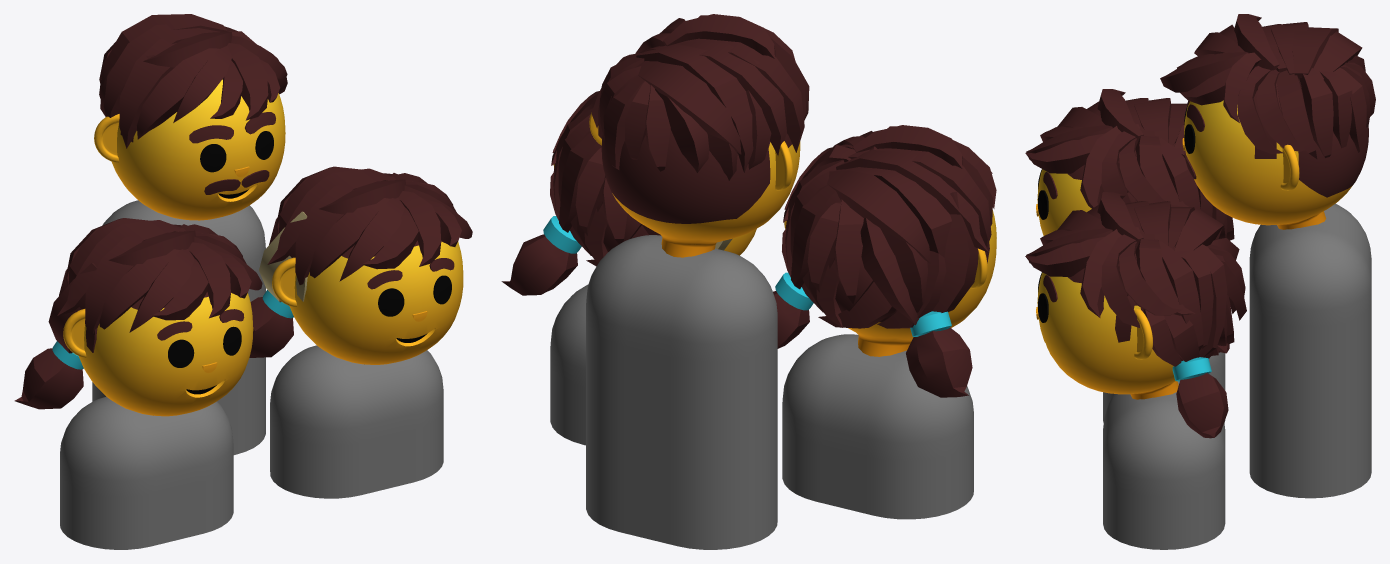
The model's file is family_man_boy_girl_girl.gltf.
3 views of the same model, side by side, from view 1: azimuth 30°, elevation 25°; view 2: azimuth 150°, elevation 25°; view 3: azimuth 270°, elevation 25° (orthographic). The views are drawn at different scales.
Parts seen in each view (by area): view 1: Sphere.339, Sphere.338, Cube.5728, Cube.5641, Cube.5695, Roundcube.408, Roundcube.409, Roundcube.407, Sphere.337, Cube.5748, Cube.5713, Circle.1705 (+10 smaller); view 2: Sphere.337, Cube.5728, Sphere.338, Cube.5641, Roundcube.407, Cube.5695, Sphere.339, Cube.5748, Cube.5713, Roundcube.408, Cube.5749, Cylinder.282 (+1 smaller); view 3: Sphere.337, Cube.5695, Cube.5641, Sphere.339, Cube.5728, Roundcube.407, Roundcube.409, Cube.5713, Roundcube.408, Cylinder.284, Cylinder.282, Cube.5714 (+1 smaller).
Boxes of the visible parts, x1,y1,x2,y2 form: Sphere.339: (270, 345, 443, 498); Sphere.338: (60, 396, 233, 549); Cube.5728: (48, 218, 262, 353); Cube.5641: (99, 14, 287, 148); Cube.5695: (267, 166, 472, 284); Roundcube.408: (79, 292, 253, 416); Roundcube.409: (289, 240, 463, 364); Roundcube.407: (111, 79, 285, 220); Sphere.337: (92, 200, 265, 454); Cube.5748: (14, 348, 83, 409); Cube.5713: (249, 297, 293, 357); Circle.1705: (378, 275, 451, 316); Sphere.337: (586, 235, 777, 549); Cube.5728: (782, 125, 996, 328); Sphere.338: (782, 334, 973, 519); Cube.5641: (591, 14, 809, 180); Roundcube.407: (601, 129, 800, 257); Cube.5695: (550, 91, 660, 266); Sphere.339: (550, 284, 588, 445); Cube.5748: (773, 291, 972, 397); Cube.5713: (501, 234, 577, 295); Roundcube.408: (848, 210, 996, 356); Cube.5749: (775, 272, 951, 336); Cylinder.282: (589, 112, 792, 190); Sphere.337: (1249, 203, 1371, 498); Cube.5695: (1025, 192, 1246, 366); Cube.5641: (1160, 14, 1375, 158); Sphere.339: (1103, 381, 1225, 549); Cube.5728: (1025, 89, 1234, 240); Roundcube.407: (1184, 66, 1368, 229); Roundcube.409: (1037, 254, 1183, 399); Cube.5713: (1176, 351, 1228, 438); Roundcube.408: (1037, 150, 1136, 235); Cylinder.284: (1134, 309, 1152, 359); Cylinder.282: (1279, 144, 1299, 190); Cube.5714: (1172, 357, 1211, 381).
Bounding box in the file's own units: 2.67 × 2.58 × 1.9.
Materials: 1 (1 with a texture image).
